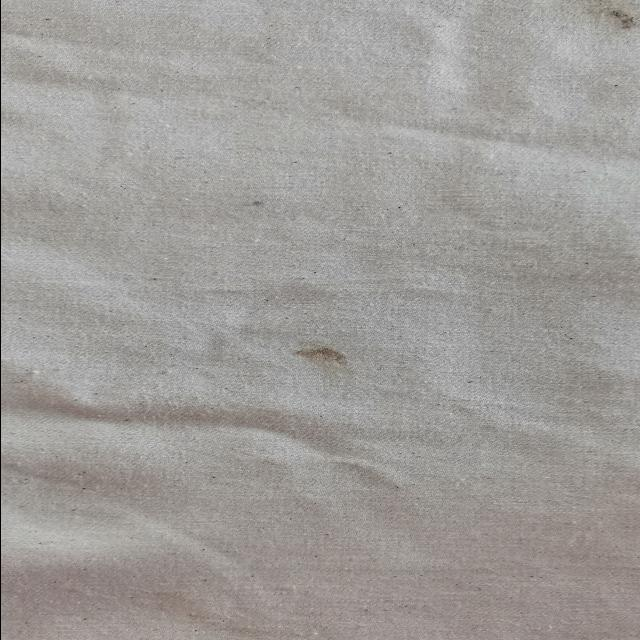taaaches: (257, 332, 366, 378), (574, 1, 640, 33)
